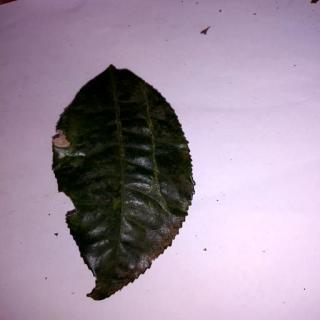Anthracnose: (53, 66, 195, 302)
